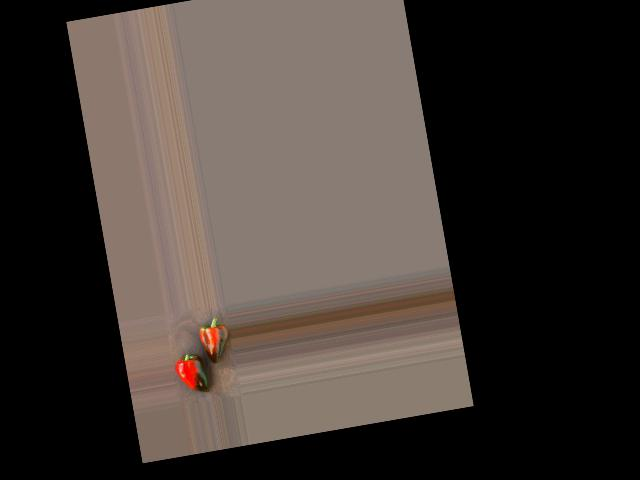bell_pepper: (169, 336, 212, 399)
